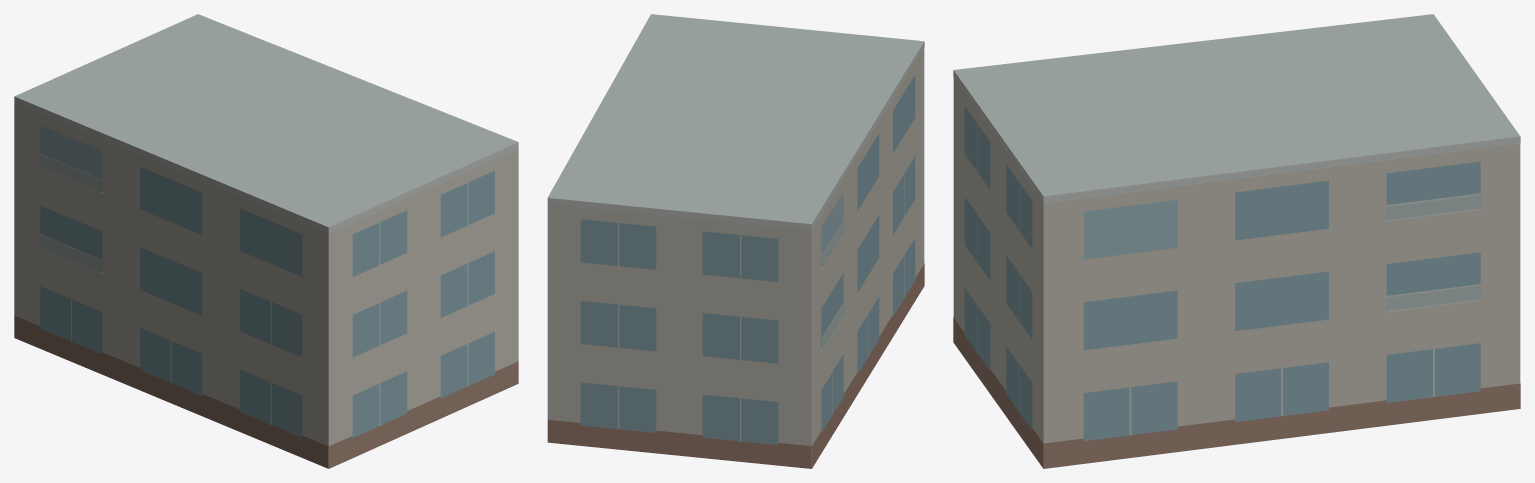
Rendered from survey-upis-32702135.glb.
3 renders of one model, left to right at view 1: azimuth 30°, elevation 25°; view 2: azimuth 150°, elevation 25°; view 3: azimuth 270°, elevation 25°, orthographic. The views are drawn at different scales.
Parts seen in each view (by area): view 1: survey-upis-32702135.tmp; view 2: survey-upis-32702135.tmp; view 3: survey-upis-32702135.tmp.
Boxes of the visible parts, left/top/right/bottom form: survey-upis-32702135.tmp: left=14, top=14, right=518, bottom=468; survey-upis-32702135.tmp: left=547, top=14, right=924, bottom=468; survey-upis-32702135.tmp: left=953, top=14, right=1520, bottom=468.
Size of the model in its own units: 13.16 by 9.15 by 17.27.
